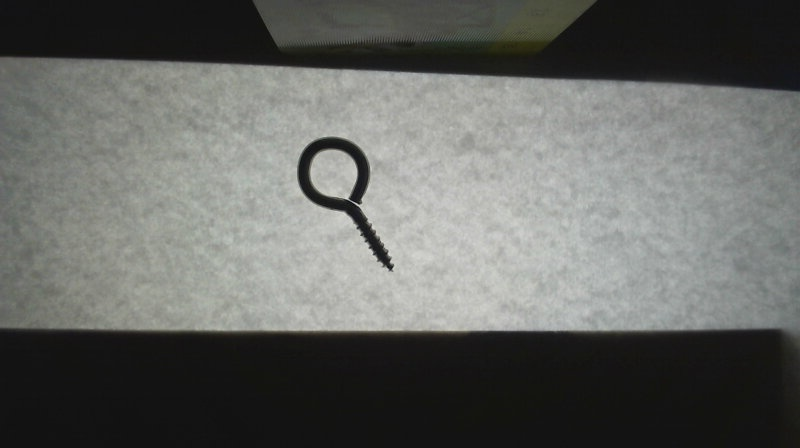O001: (291, 135, 398, 273)
